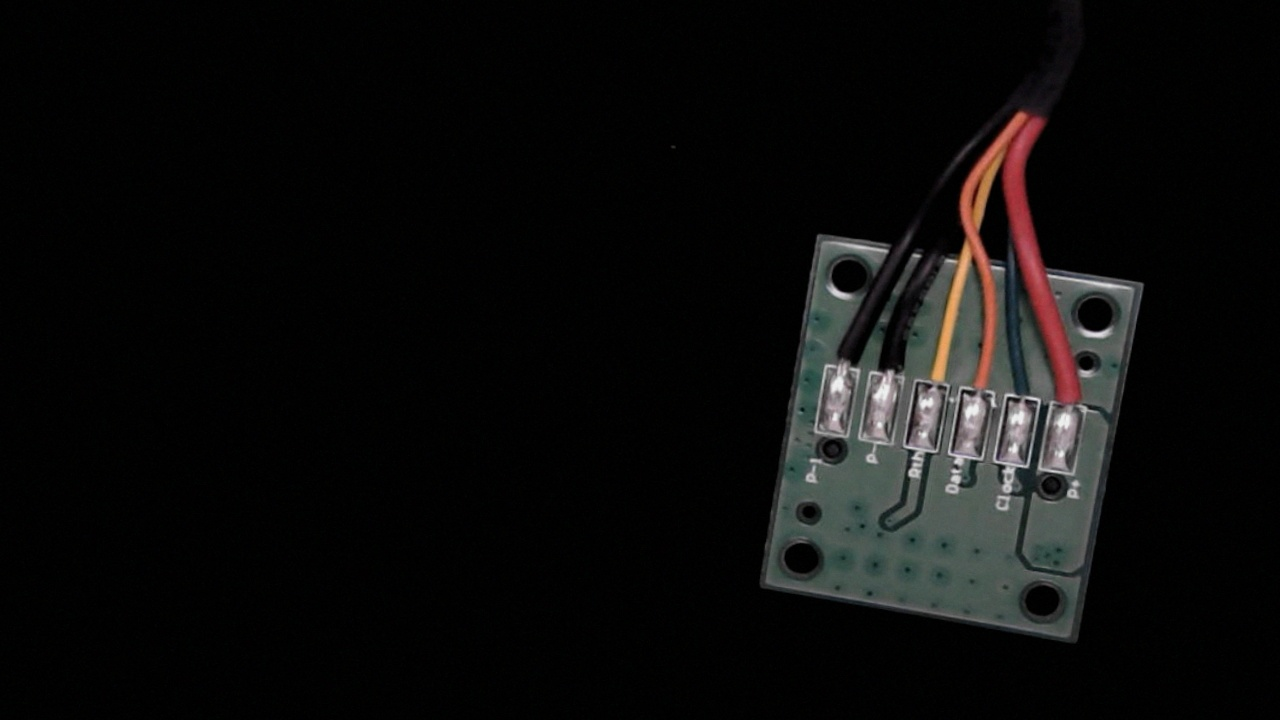Black: (871, 323, 915, 397)
Black1: (824, 317, 867, 388)
Green: (1001, 347, 1049, 419)
Orange: (957, 339, 1007, 412)
Red: (1049, 348, 1094, 425)
Yellow: (914, 323, 962, 405)
